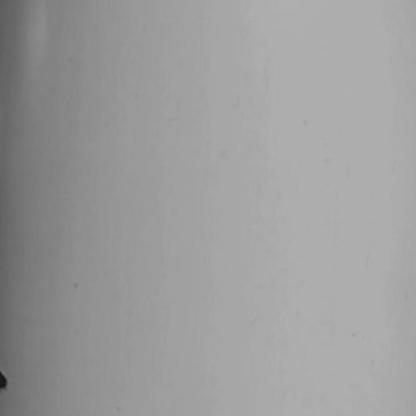kongdong: (1, 363, 13, 391)
